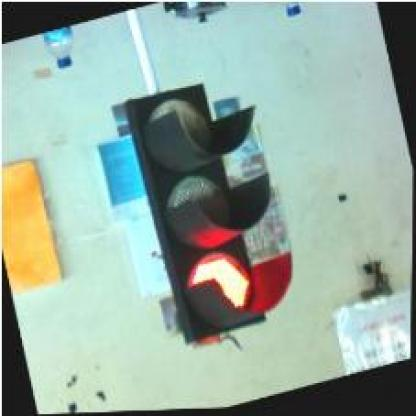red: (119, 67, 306, 347)
